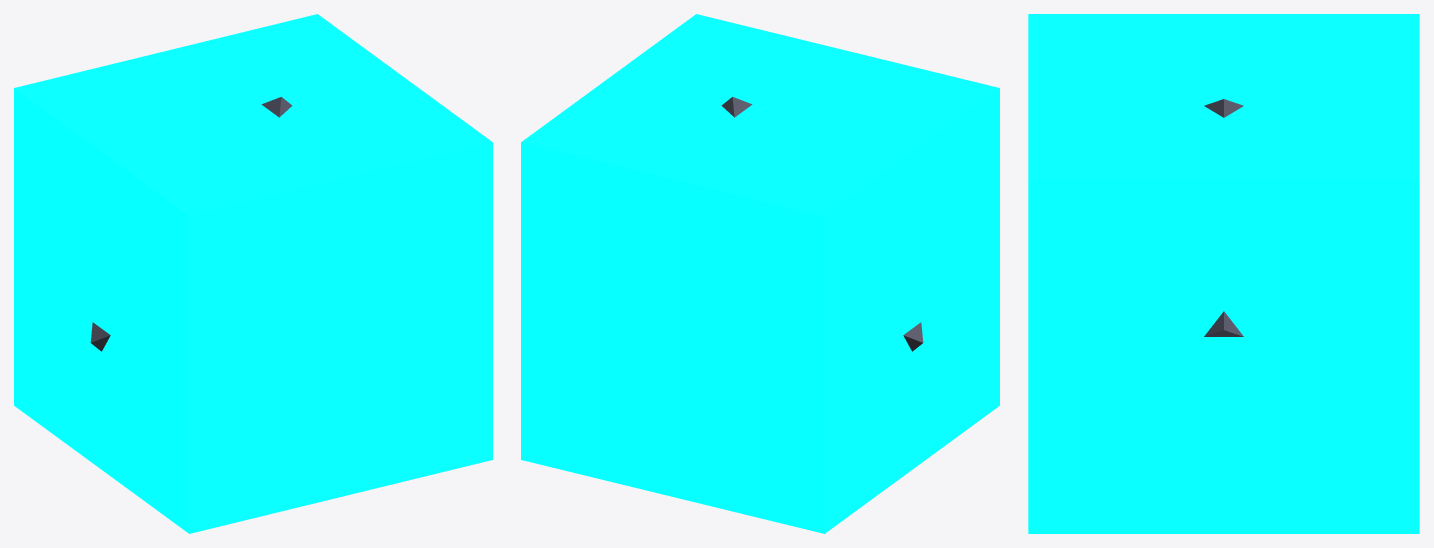
Rendered from pickup_datacube.glb.
The picture shows the model from 3 angles, left to right: view 1: azimuth 30°, elevation 25°; view 2: azimuth 150°, elevation 25°; view 3: azimuth 270°, elevation 25°; orthographic projection. The views are drawn at different scales.
Parts seen in each view (by area): view 1: Cube, Cube.001; view 2: Cube, Cube.001; view 3: Cube, Cube.001.
Boxes of the visible parts, bbox=[...] form: Cube: bbox=[14, 14, 492, 533]; Cube.001: bbox=[90, 97, 292, 351]; Cube: bbox=[521, 14, 999, 533]; Cube.001: bbox=[721, 97, 923, 351]; Cube: bbox=[1028, 14, 1419, 533]; Cube.001: bbox=[1204, 99, 1243, 336].
Size of the model in its own units: 0.3756 by 0.3756 by 0.35.
